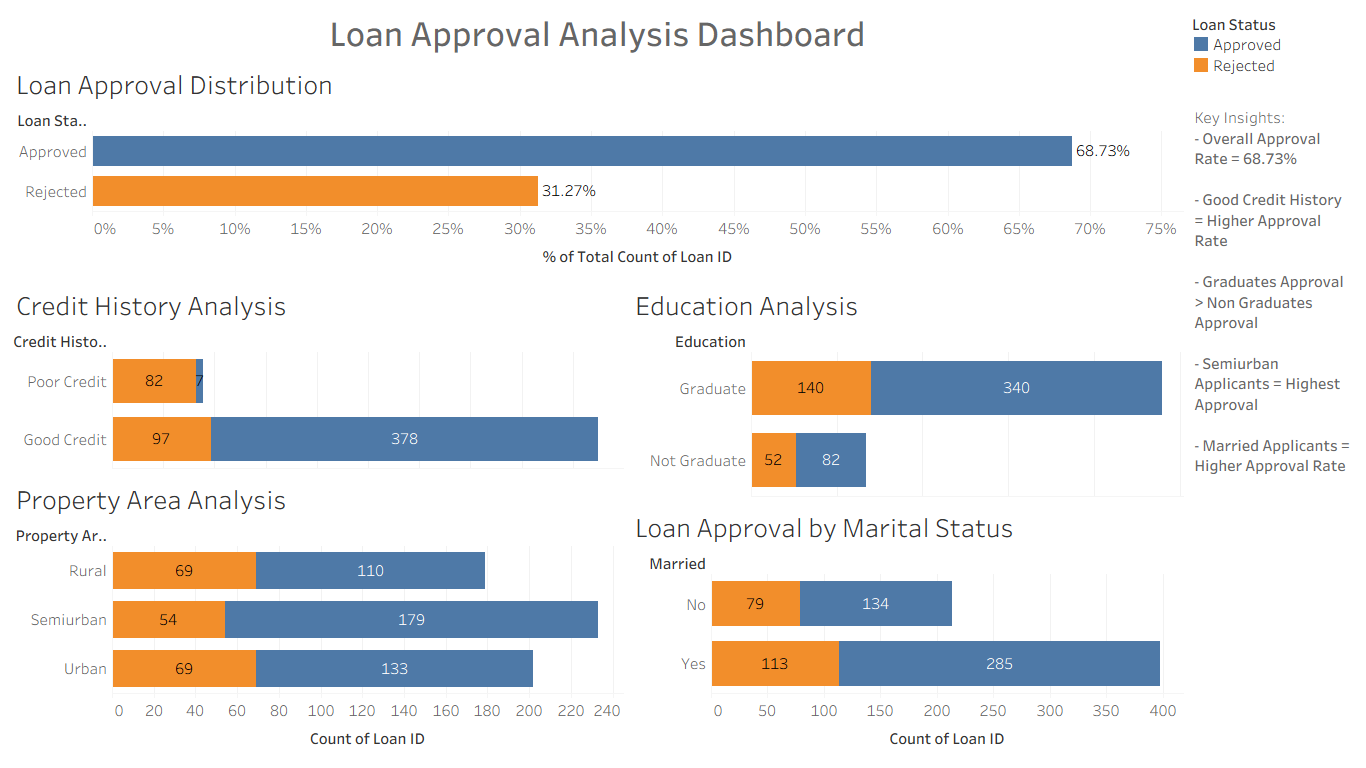

This screenshot's page, from the dashboard's own definition file:
{"tool":"tableau","page":{"name":"Dashboard 1","canvas":[1366,768],"ordinal":0},"visuals":[{"type":"text","box":[8,8,1179,49]},{"type":"legend","title":"Loan Approval Overview","param":"[federated.0ye8y2k1nafokm13eth281biqz6e].[none:Loan_Status:nk]","box":[1187,8,171,72]},{"type":"worksheet","title":"Loan Approval Overview","mark":"Automatic","rows":["Loan_Status"],"box":[8,57,1179,221]},{"type":"legend","title":"Loan Approval Overview","param":"[federated.0ye8y2k1nafokm13eth281biqz6e].[cnt:Loan_ID:qk]","box":[1187,80,171,24]},{"type":"text","box":[1187,104,171,383]},{"type":"worksheet","title":"Credit History Analysis","mark":"Automatic","rows":["Credit_History"],"cols":["Loan_ID"],"box":[8,278,619,194]},{"type":"worksheet","title":"Education Analysis","mark":"Automatic","rows":["Education"],"cols":["Loan_ID"],"box":[627,278,560,222]},{"type":"worksheet","title":"Property Area Analysis","mark":"Automatic","rows":["Property_Area"],"cols":["Loan_ID"],"box":[8,472,619,288]},{"type":"worksheet","title":"Married Analysis","mark":"Automatic","rows":["Married"],"cols":["Loan_ID"],"box":[627,500,560,260]}]}

Visuals, with their boxes in screenshot pixels (x1, y1, x2, y2), scaled from the page's 1366x768 canvas onto the 1366x768 screenshot:
text: 8/8/1187/57
"Loan Approval Overview" legend: 1187/8/1358/80
"Loan Approval Overview" worksheet: 8/57/1187/278
"Loan Approval Overview" legend: 1187/80/1358/104
text: 1187/104/1358/487
"Credit History Analysis" worksheet: 8/278/627/472
"Education Analysis" worksheet: 627/278/1187/500
"Property Area Analysis" worksheet: 8/472/627/760
"Married Analysis" worksheet: 627/500/1187/760
